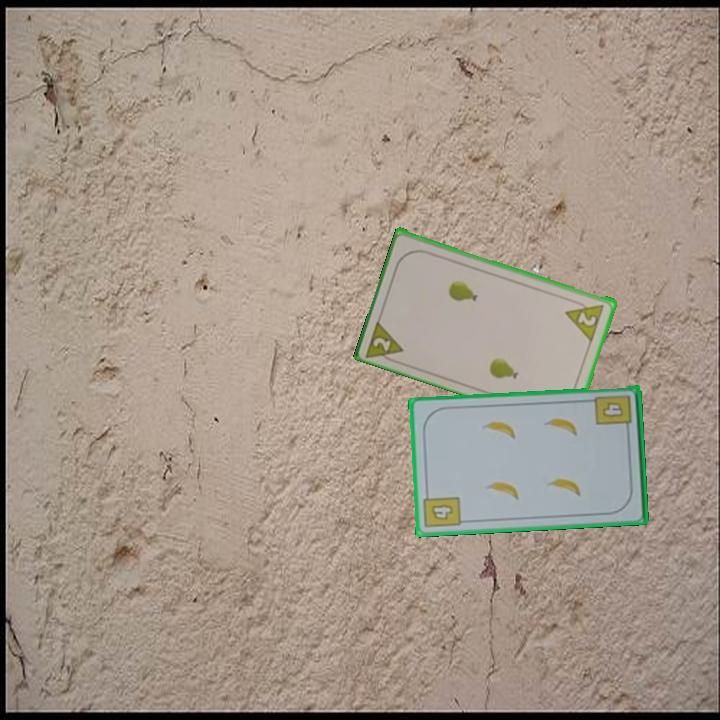2p: (362, 315, 407, 367), (562, 297, 607, 343)
4b: (420, 487, 464, 531), (592, 392, 635, 435)
